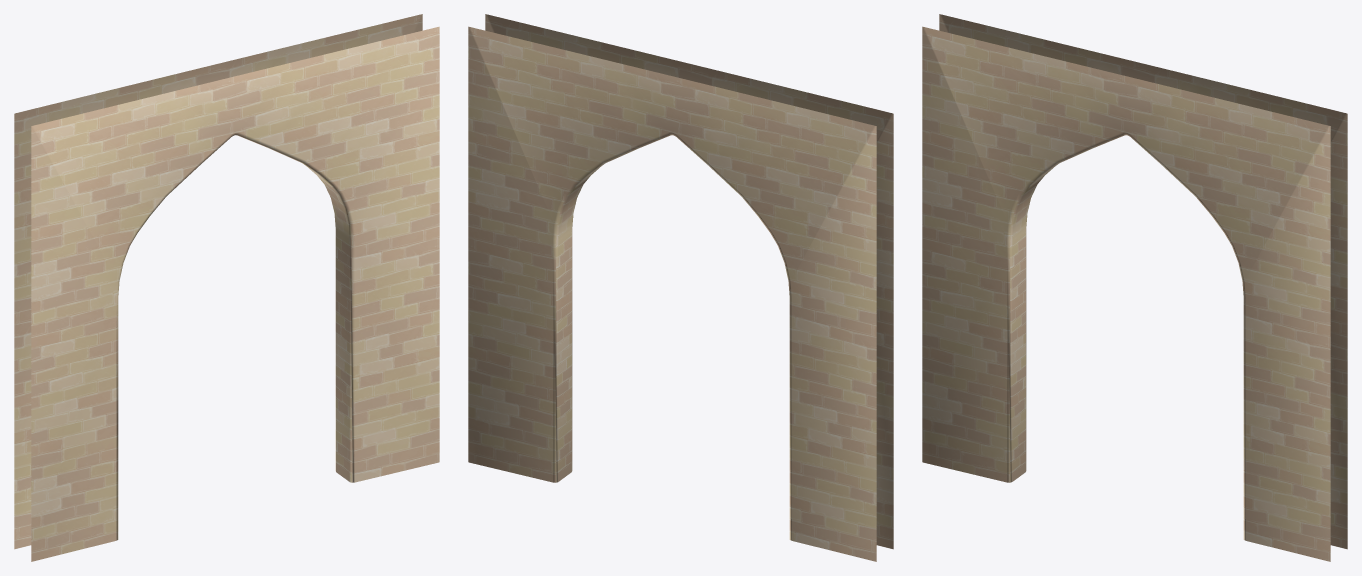
File: SM_wall_arch_01.fbx
3 views of the same model, side by side, from view 1: azimuth 30°, elevation 25°; view 2: azimuth 150°, elevation 25°; view 3: azimuth 330°, elevation 25° (orthographic).
Parts seen in each view (by area): view 1: Object32952; view 2: Object32952; view 3: Object32952.
Boxes of the visible parts, x1,y1,x2,y2 form: Object32952: (14,14,439,561); Object32952: (468,14,893,561); Object32952: (922,14,1347,561).
Size of the model in its own units: 167 by 171 by 12.16.
